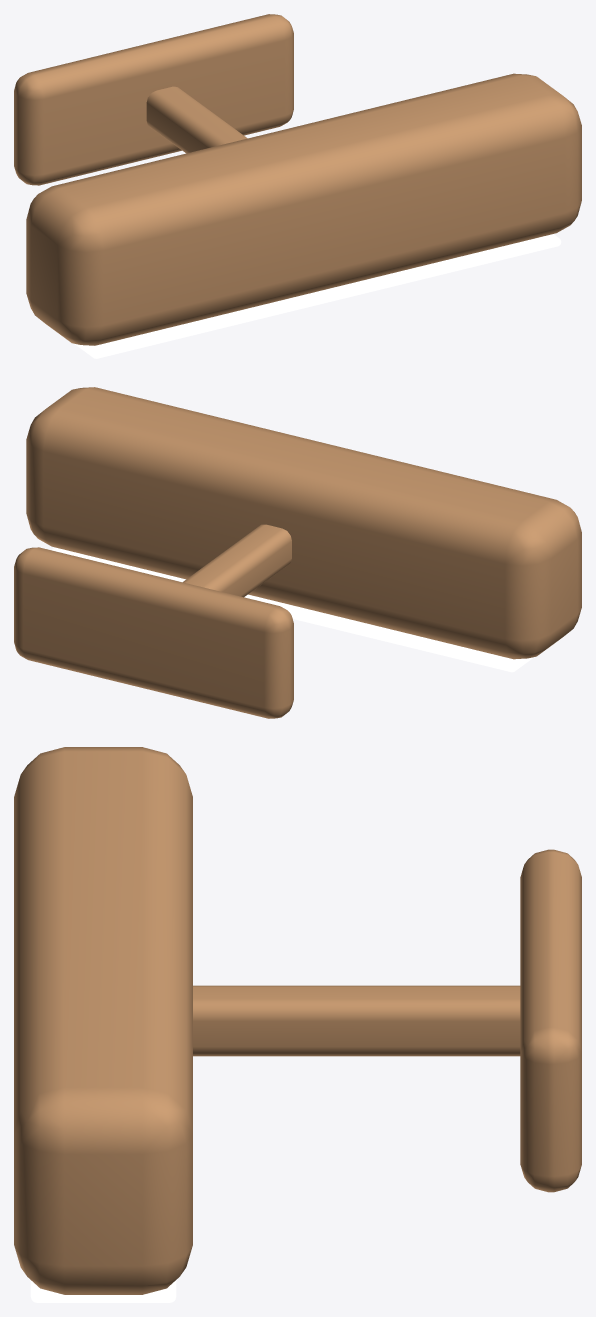
File: wallSpotBarOak.glb
3 views of the same model, one above another, from view 1: azimuth 30°, elevation 25°; view 2: azimuth 150°, elevation 25°; view 3: azimuth 270°, elevation 25° (orthographic). The views are drawn at different scales.
Parts seen in each view (by area): view 1: Picture light housing, Wall backplate, Spotlight lens, Spotlight support arm; view 2: Picture light housing, Wall backplate, Spotlight support arm, Spotlight lens; view 3: Picture light housing, Spotlight support arm, Wall backplate, Spotlight lens.
Part boxes in pixels (x1,y1,x2,y2): Picture light housing: (26, 73, 581, 345); Wall backplate: (14, 14, 293, 185); Spotlight lens: (74, 234, 561, 358); Spotlight support arm: (146, 86, 247, 153); Picture light housing: (26, 387, 581, 659); Wall backplate: (14, 547, 293, 718); Spotlight support arm: (183, 524, 291, 597); Spotlight lens: (51, 547, 533, 672); Picture light housing: (14, 747, 192, 1294); Spotlight support arm: (193, 985, 520, 1056); Wall backplate: (520, 849, 581, 1192); Spotlight lens: (30, 1280, 176, 1302).
Bounding box in the file's own units: 0.8 × 0.212 × 0.5075.
